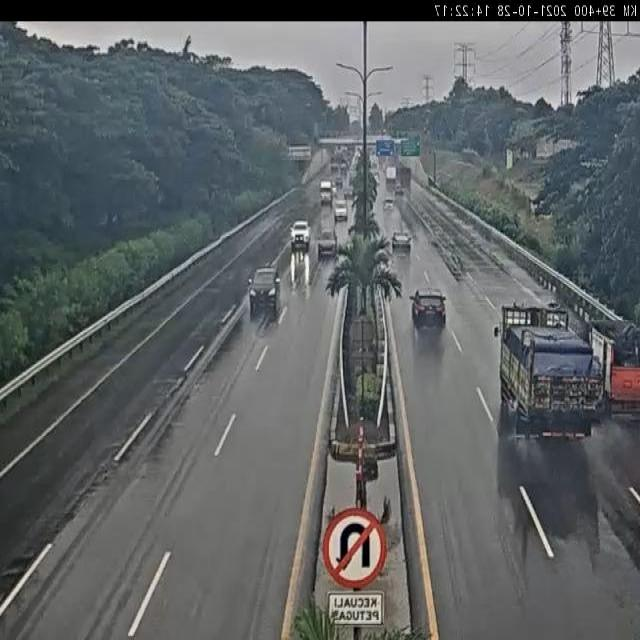Car: (409, 289, 447, 332), (247, 268, 282, 308), (290, 220, 312, 247), (316, 229, 338, 256), (391, 230, 411, 252), (334, 200, 349, 222), (382, 198, 395, 211), (394, 184, 404, 197), (344, 189, 354, 199), (335, 176, 343, 187), (332, 183, 337, 197)
Truck: (494, 297, 607, 440), (578, 318, 640, 428), (318, 180, 332, 205), (385, 164, 397, 183), (400, 165, 411, 183)
